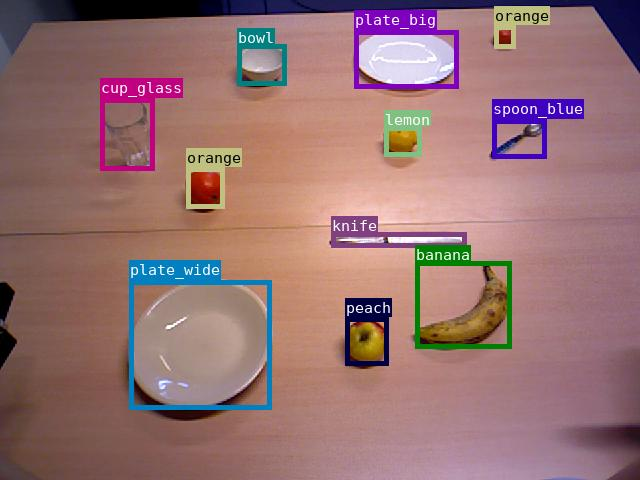banana: (415, 261, 511, 348)
bowl: (237, 44, 286, 85)
cup_glass: (100, 98, 154, 170)
knife: (331, 232, 466, 247)
lemon: (384, 126, 421, 156)
orange: (186, 167, 224, 208), (494, 25, 515, 48)
peach: (345, 317, 388, 365)
plate_big: (354, 30, 458, 88)
plate_wide: (129, 280, 271, 409)
spoon_blue: (492, 119, 546, 158)
